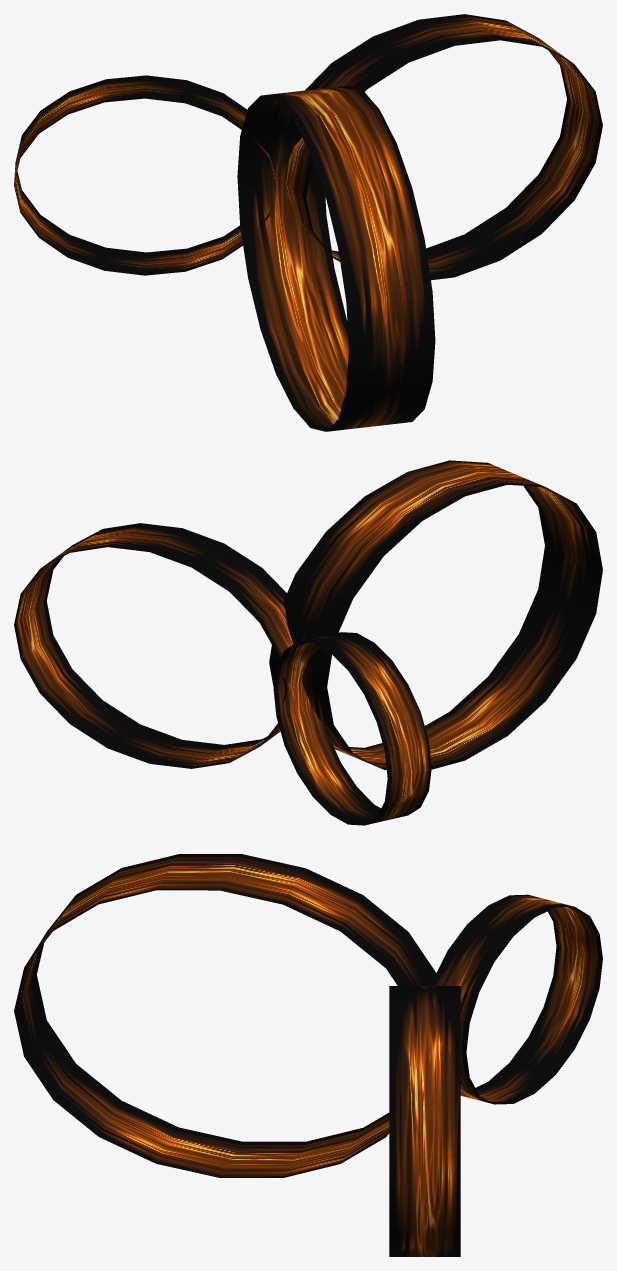
Rendered from Sunflare01_Art.fbx.
3 views of the same model, one above another, from view 1: azimuth 30°, elevation 25°; view 2: azimuth 150°, elevation 25°; view 3: azimuth 270°, elevation 25° (orthographic). The views are drawn at different scales.
Parts seen in each view (by area): view 1: Sunflare01_Art; view 2: Sunflare01_Art; view 3: Sunflare01_Art.
Part boxes in pixels (bbox=[...]): Sunflare01_Art: bbox=[14, 14, 602, 431]; Sunflare01_Art: bbox=[14, 460, 602, 825]; Sunflare01_Art: bbox=[14, 854, 602, 1256].
Size of the model in its own units: 75.31 by 41.17 by 76.45.
